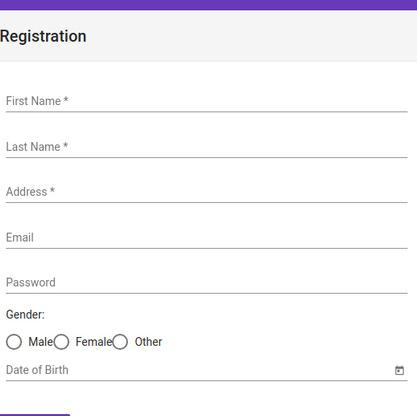field_line: (2, 87, 411, 116), (4, 132, 413, 161), (3, 178, 412, 207), (4, 224, 413, 253), (4, 269, 413, 298), (3, 357, 412, 386)
radio: (51, 332, 73, 352), (5, 332, 24, 351), (113, 331, 130, 352)
radio_with_label: (49, 329, 113, 354), (110, 328, 161, 354)
